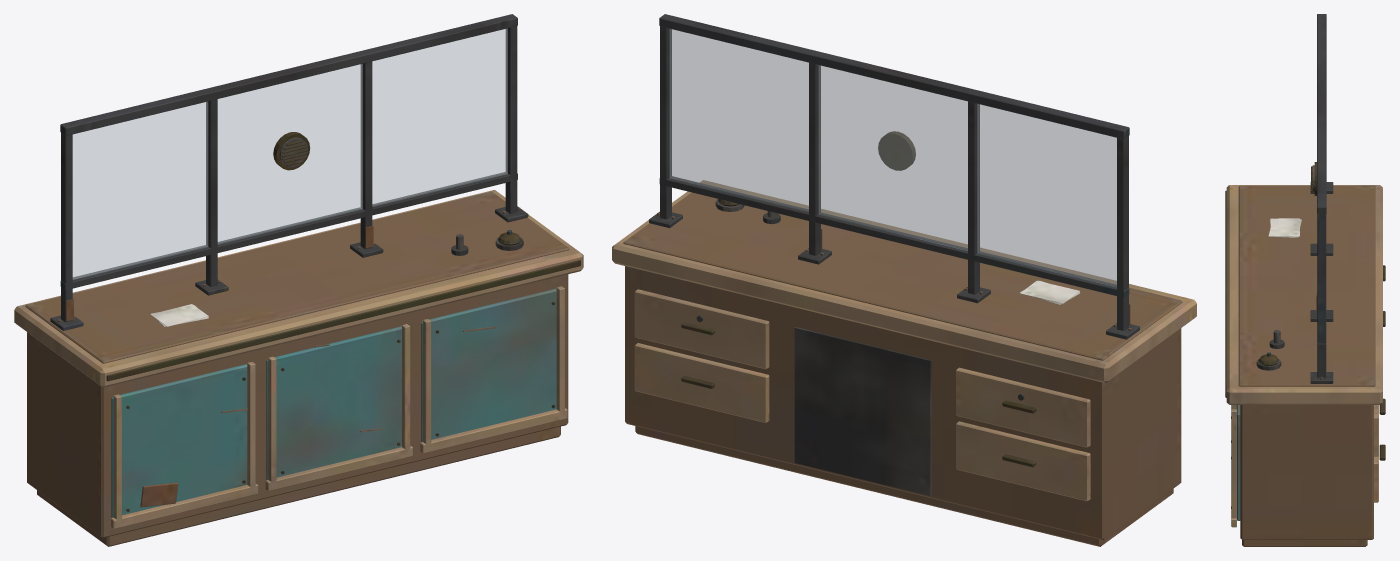
File: O17_bank_teller_counter.glb
3 renders of one model, left to right at view 1: azimuth 30°, elevation 25°; view 2: azimuth 150°, elevation 25°; view 3: azimuth 270°, elevation 25°, orthographic. The views are drawn at different scales.
Visible parts, largest first — view 1: Recessed dark plinth; view 2: Recessed dark plinth; view 3: Recessed dark plinth.
Part boxes in pixels (x1=…): Recessed dark plinth: x1=14, y1=14, x2=583, y2=546; Recessed dark plinth: x1=612, y1=14, x2=1196, y2=546; Recessed dark plinth: x1=1225, y1=14, x2=1385, y2=546.
Bounding box in the file's own units: 3 × 2.31 × 0.9825.
10 materials, 9 textured.
